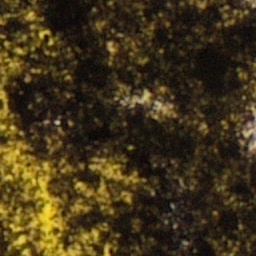cement_matrix: (0, 0, 255, 255), (16, 237, 24, 245), (106, 168, 116, 174), (14, 221, 19, 226), (141, 95, 146, 99), (160, 106, 163, 109)
cracks: (2, 146, 77, 255), (17, 238, 23, 244), (107, 169, 115, 173), (15, 222, 18, 225), (0, 208, 2, 211), (142, 96, 145, 98), (161, 107, 162, 108)
gravel_crushed_stones: (248, 113, 255, 150), (250, 0, 255, 2)
